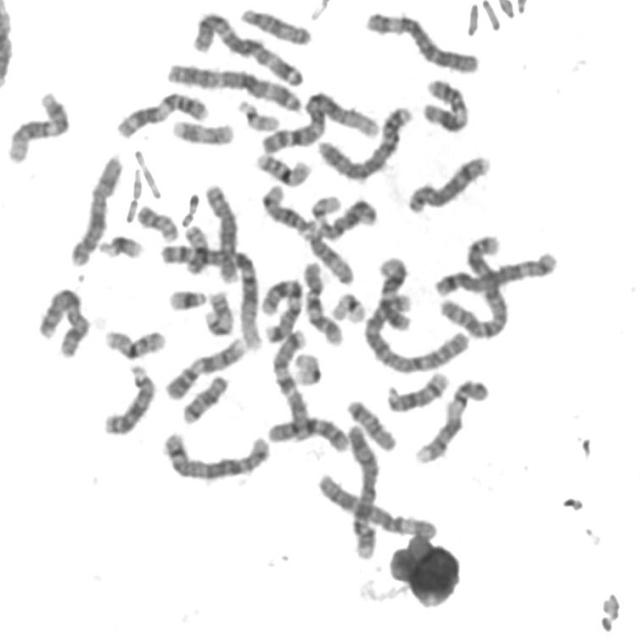A1: (155, 237, 265, 352), (255, 84, 381, 156)
A2: (358, 288, 473, 376), (433, 230, 511, 341)
A3: (187, 5, 306, 88), (160, 57, 306, 114)
B4: (314, 100, 415, 182), (341, 418, 381, 561)
B5: (430, 244, 561, 298), (157, 426, 272, 482)
C10: (298, 256, 346, 347), (262, 411, 352, 454)
C11: (111, 86, 211, 140), (417, 73, 471, 134)
C12: (2, 85, 72, 165), (374, 251, 414, 334)
C6: (312, 467, 440, 541), (360, 5, 482, 75)
C7: (266, 324, 312, 438), (257, 272, 305, 344)
C8: (402, 150, 493, 216), (199, 177, 241, 285)
C9: (411, 374, 491, 466), (160, 332, 248, 402)
D13: (98, 359, 156, 437), (310, 191, 378, 241)
D14: (256, 180, 315, 237), (381, 367, 452, 414)
D15: (298, 220, 356, 286), (236, 1, 314, 46)
E16: (99, 322, 168, 360), (250, 147, 313, 188)
E17: (167, 114, 236, 147), (200, 286, 235, 338)
E18: (342, 394, 398, 453), (177, 368, 231, 426)
F19: (327, 286, 368, 326), (289, 347, 324, 387)
F20: (132, 200, 180, 243), (180, 221, 210, 276)
G21: (94, 229, 146, 262), (163, 283, 209, 313)
G22: (232, 94, 282, 133), (306, 190, 343, 226)
X: (64, 149, 125, 268), (32, 282, 93, 361)
